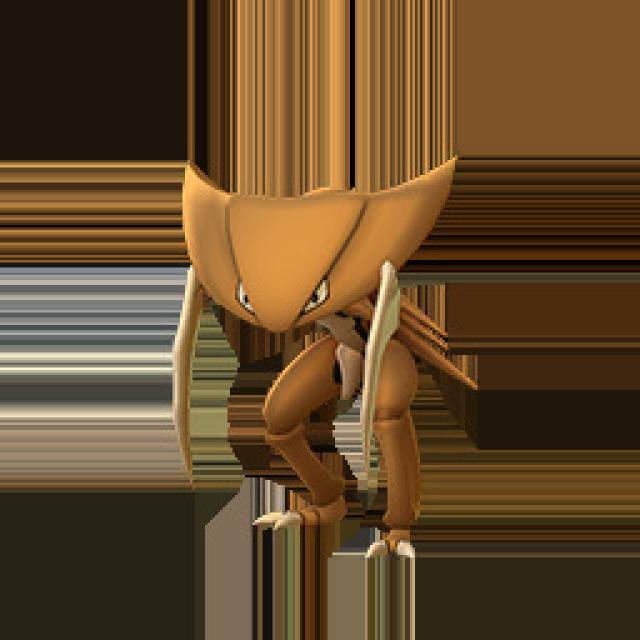Kabutops: (171, 160, 494, 578)
